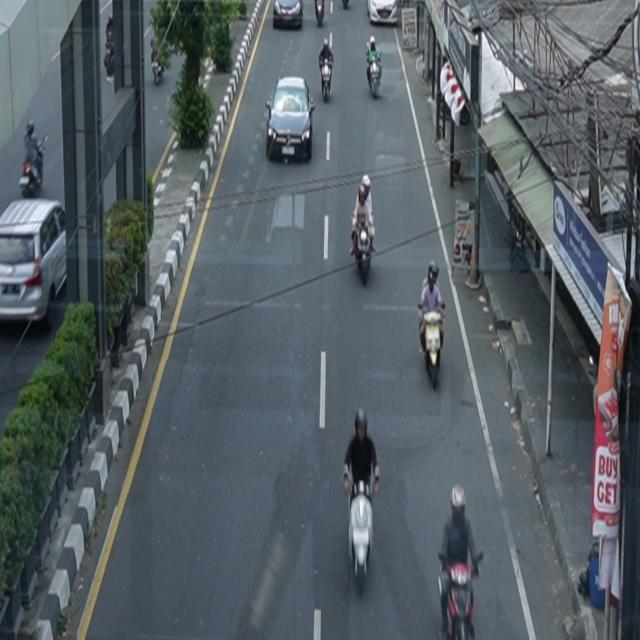car: (1, 198, 68, 327), (266, 76, 316, 164), (273, 1, 304, 29)
